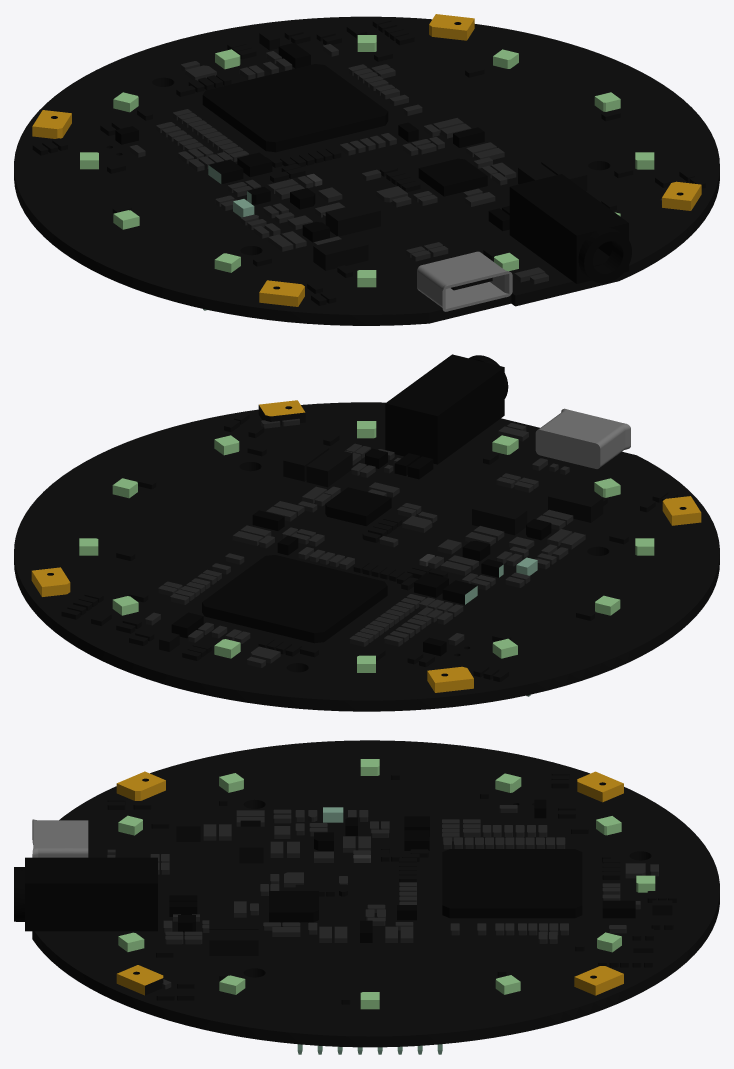
The model's file is seeed-respeaker-mic-array-v2.glb.
3 views of the same model, one above another, from view 1: azimuth 30°, elevation 25°; view 2: azimuth 150°, elevation 25°; view 3: azimuth 270°, elevation 25° (orthographic).
Visible parts, largest first — view 1: seeed-respeaker-mic-array-v2; view 2: seeed-respeaker-mic-array-v2; view 3: seeed-respeaker-mic-array-v2.
Part boxes in pixels (x1,y1,x2,y2): seeed-respeaker-mic-array-v2: [14, 14, 719, 325]; seeed-respeaker-mic-array-v2: [14, 354, 719, 711]; seeed-respeaker-mic-array-v2: [14, 740, 719, 1054].
Size of the model in its own units: 70.02 by 13.1 by 70.55.
